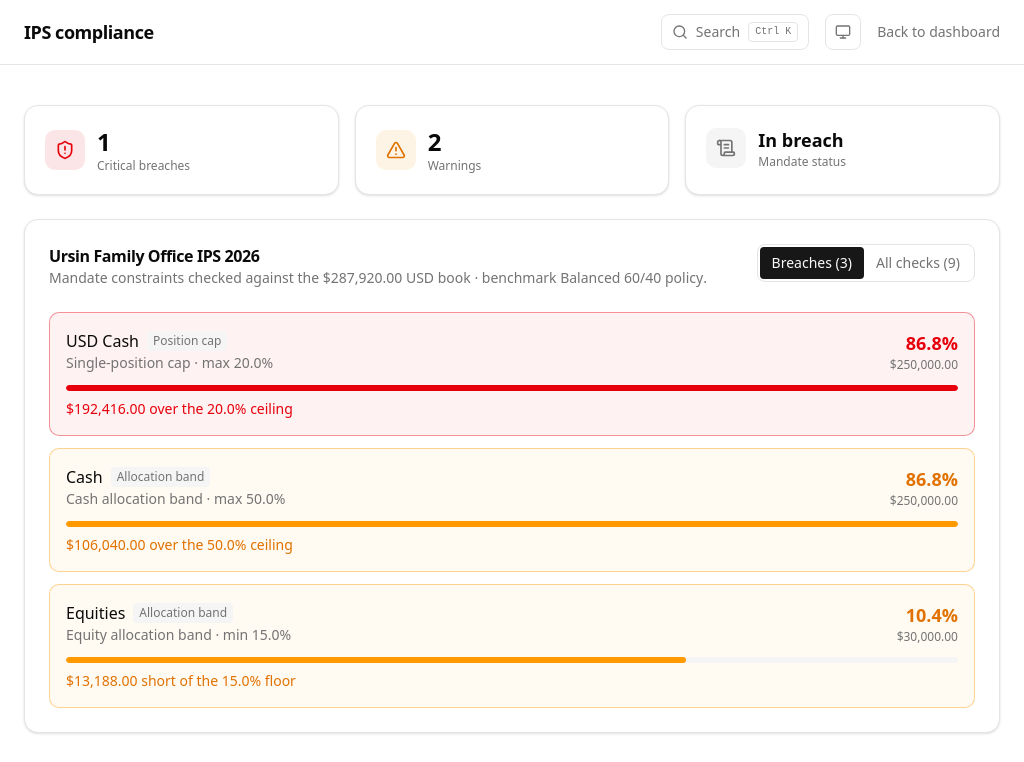
IpsPage › switches to the all-checks view and shows satisfied checks too
The width and height of the screenshot is (1024, 762).
Step 1. Click the button with test id "filter-all" → point(918, 263), box 864,247 -> 972,279
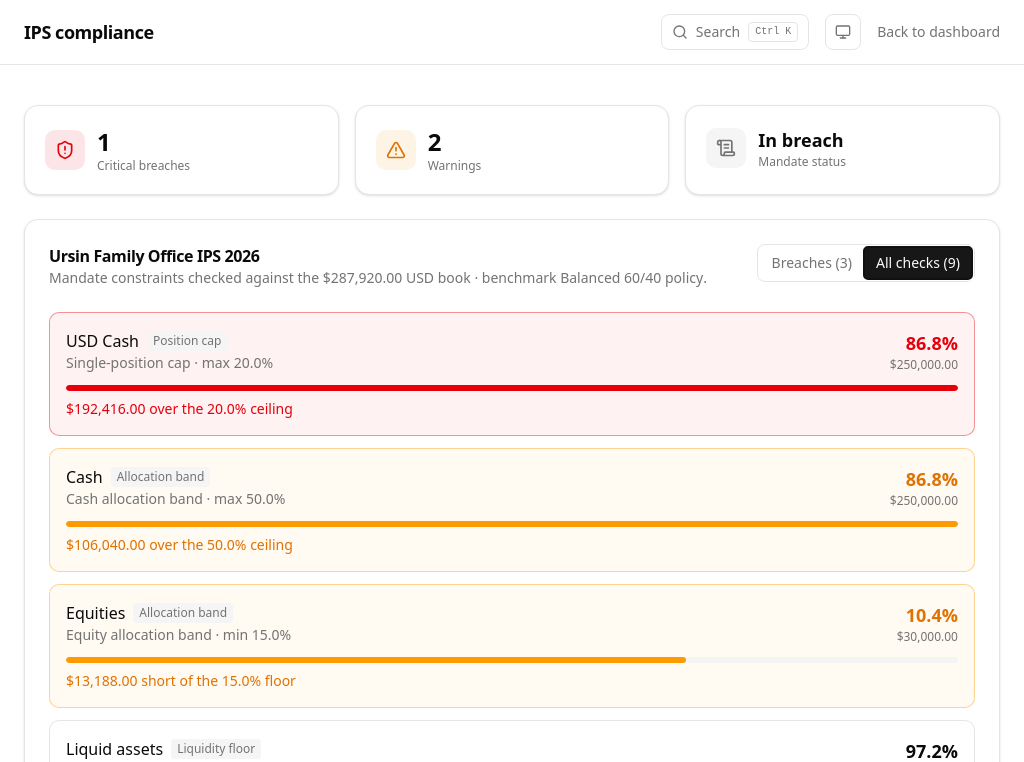
Check: the number of list items with test id "ips-row" is 9
